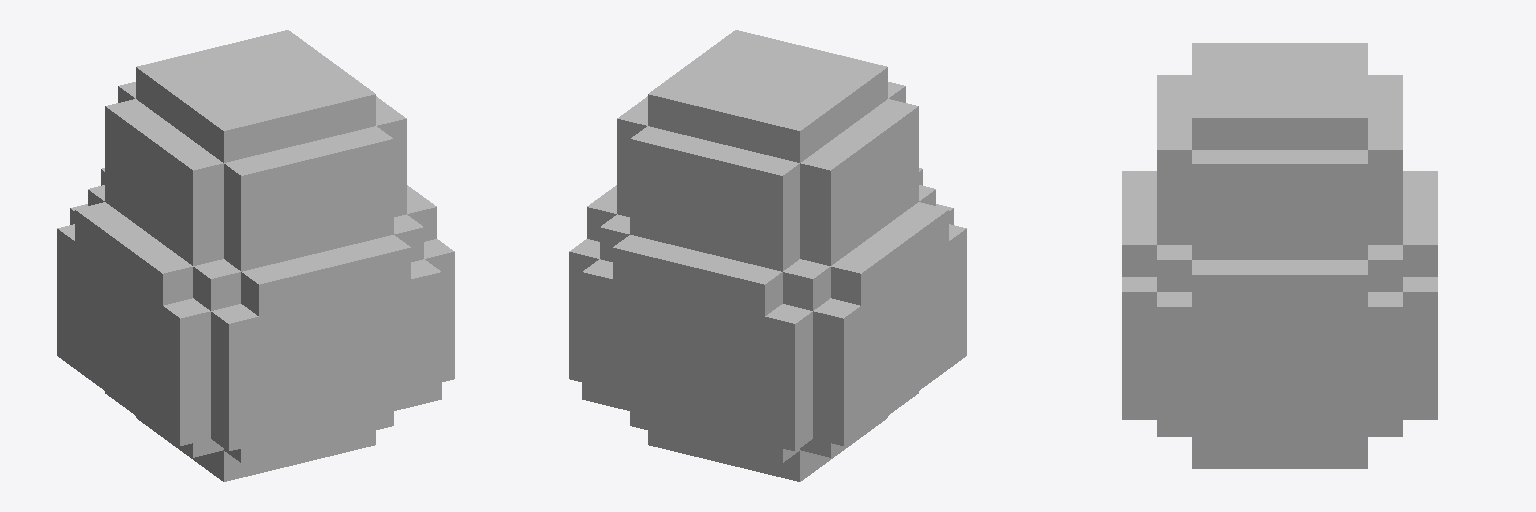
The model's file is egg.obj.
3 renders of one model, left to right at view 1: azimuth 30°, elevation 25°; view 2: azimuth 150°, elevation 25°; view 3: azimuth 270°, elevation 25°, orthographic.
Visible parts, largest first — view 1: object 1; view 2: object 1; view 3: object 1.
Part boxes in pixels (bbox=[...]): object 1: bbox=[57, 30, 454, 481]; object 1: bbox=[569, 30, 966, 481]; object 1: bbox=[1122, 43, 1437, 468].
Size of the model in its own units: 0.9 by 1.1 by 0.9.